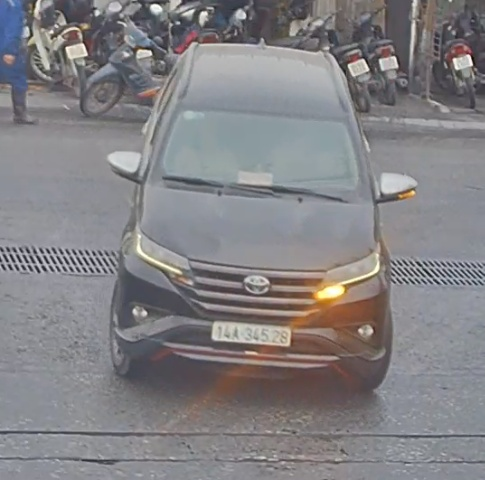vehicle plate: (211, 316, 293, 349)
